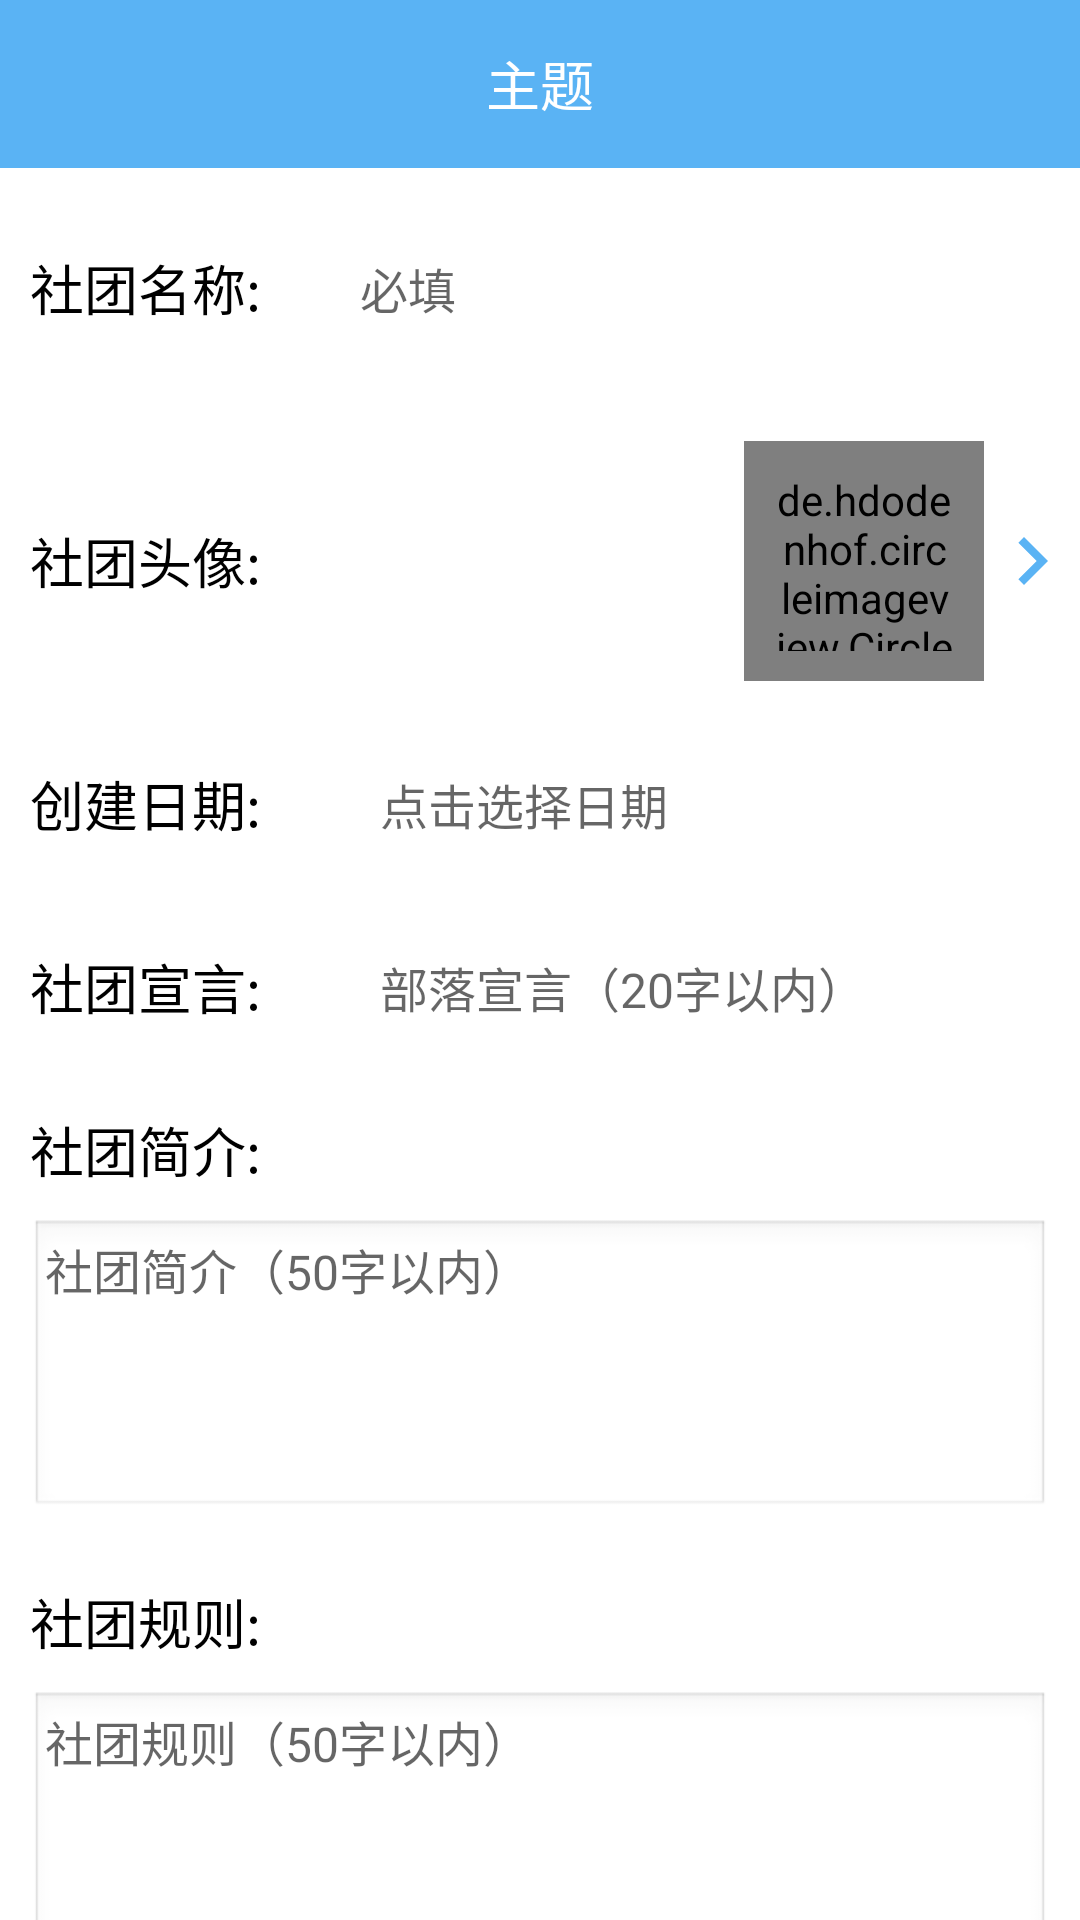

Where to tap for icons on this 1080px x 1920px app screen, as [x,y]:
chevron right: [1033,561]
